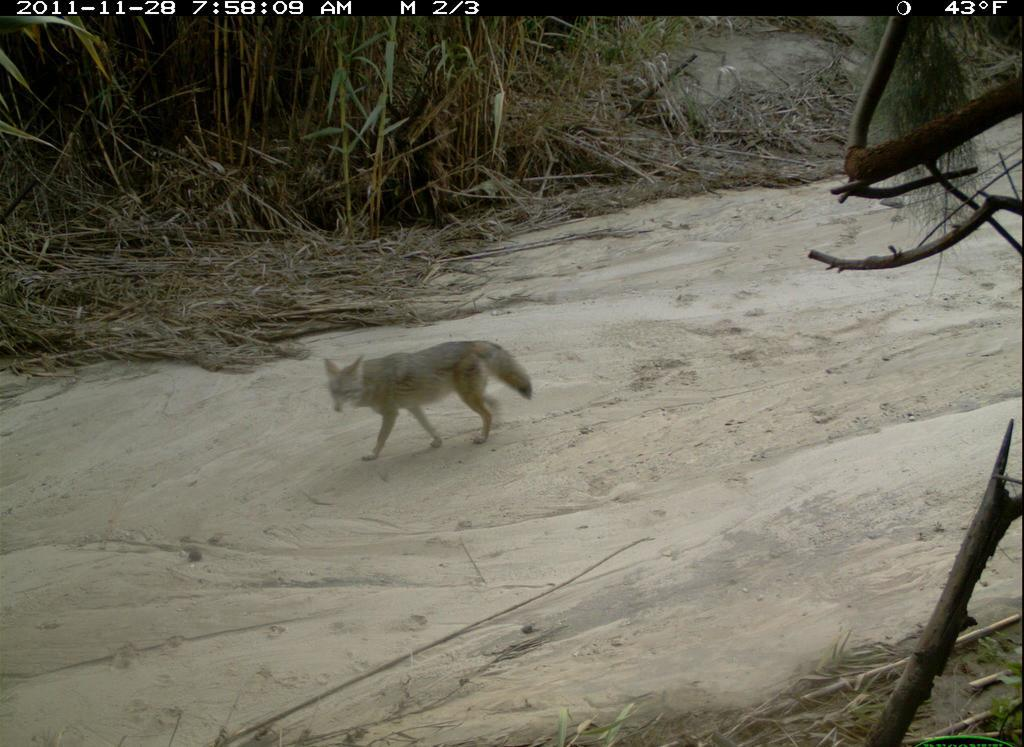coyote: (314, 342, 541, 468)
